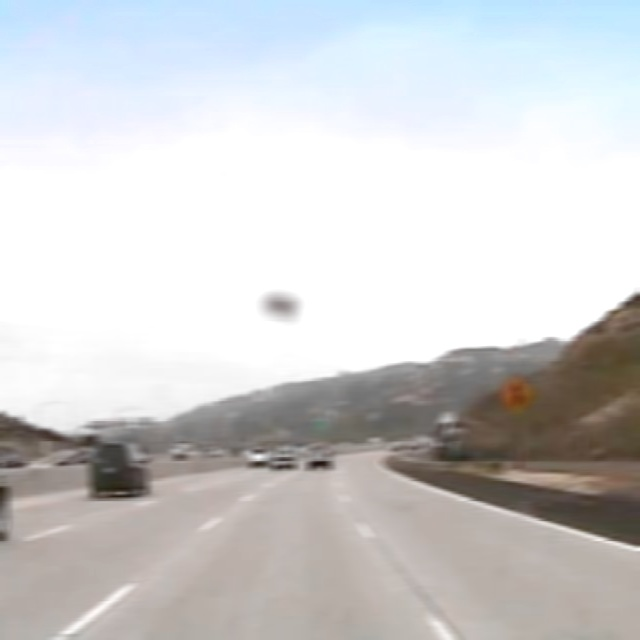merge: (498, 372, 532, 418)
